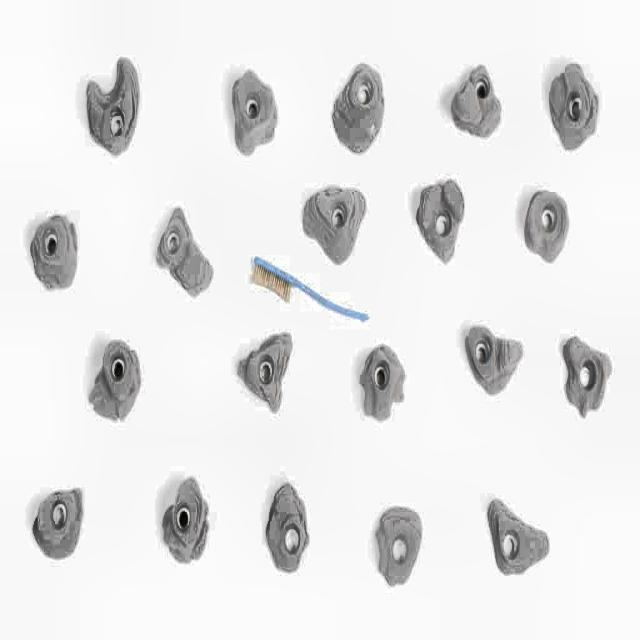Hold: (300, 182, 366, 268), (86, 56, 139, 160), (155, 203, 213, 298), (486, 494, 550, 578), (233, 324, 290, 416), (328, 63, 388, 149), (544, 60, 600, 151), (266, 473, 312, 575), (462, 320, 522, 397), (159, 472, 208, 566), (88, 334, 142, 418), (371, 507, 429, 585), (560, 332, 612, 418), (229, 71, 280, 158), (414, 182, 466, 264), (27, 216, 80, 295), (360, 341, 410, 423), (28, 481, 83, 554), (451, 58, 502, 136), (520, 188, 568, 268)
